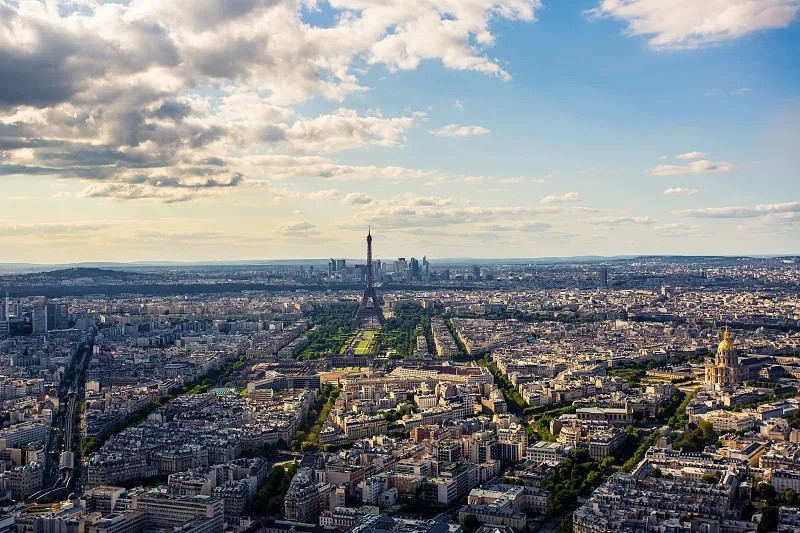Eiffel: (351, 225, 387, 332)
